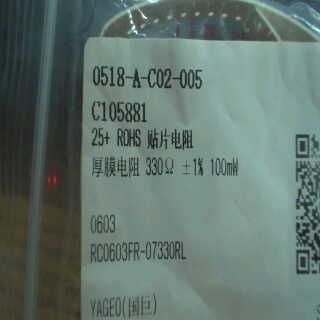330R: (142, 153, 181, 183)
